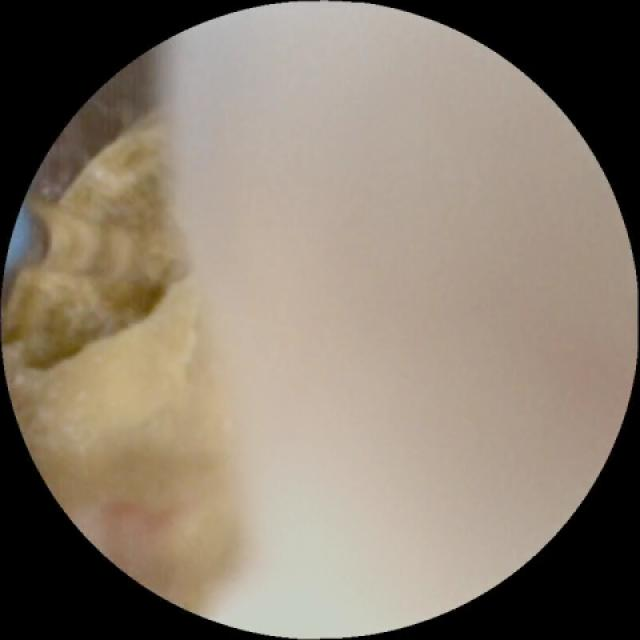stone: (3, 124, 235, 593)
